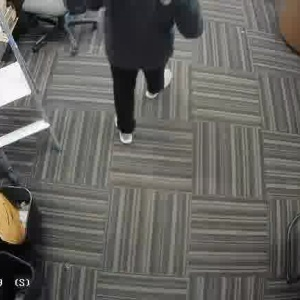person: (103, 0, 196, 146)
